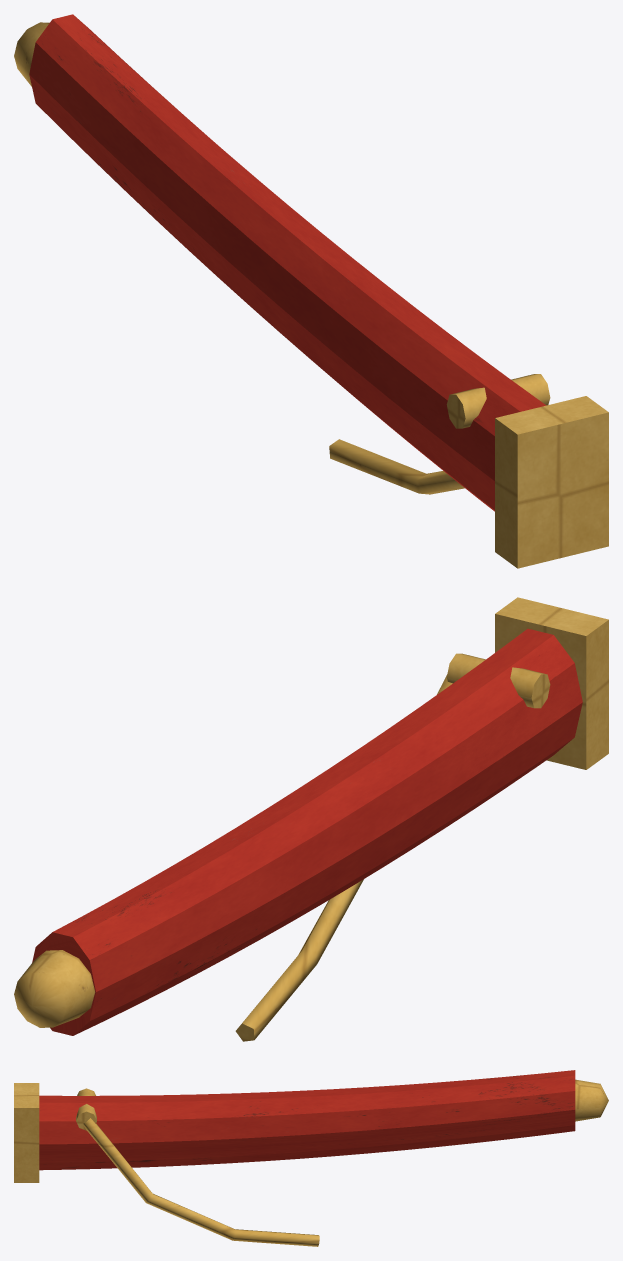
Rendered from HO_Weapon_CrimsonOath_Saya.fbx.
3 renders of one model, top to bottom at view 1: azimuth 30°, elevation 25°; view 2: azimuth 150°, elevation 25°; view 3: azimuth 270°, elevation 25°, orthographic. The views are drawn at different scales.
Parts seen in each view (by area): view 1: HO_Weapon_CrimsonOath_Saya__Red_Lacquer, HO_Weapon_CrimsonOath_Saya__Gold_Leaf; view 2: HO_Weapon_CrimsonOath_Saya__Red_Lacquer, HO_Weapon_CrimsonOath_Saya__Gold_Leaf; view 3: HO_Weapon_CrimsonOath_Saya__Red_Lacquer, HO_Weapon_CrimsonOath_Saya__Gold_Leaf.
Boxes of the visible parts, x1,y1,x2,y2 form: HO_Weapon_CrimsonOath_Saya__Red_Lacquer: (29,14,546,511); HO_Weapon_CrimsonOath_Saya__Gold_Leaf: (14,22,608,568); HO_Weapon_CrimsonOath_Saya__Red_Lacquer: (32,628,582,1035); HO_Weapon_CrimsonOath_Saya__Gold_Leaf: (14,597,608,1041); HO_Weapon_CrimsonOath_Saya__Red_Lacquer: (39,1070,575,1170); HO_Weapon_CrimsonOath_Saya__Gold_Leaf: (14,1079,608,1246).
Bounding box in the file's own units: 0.3699 × 0.8399 × 2.82.
